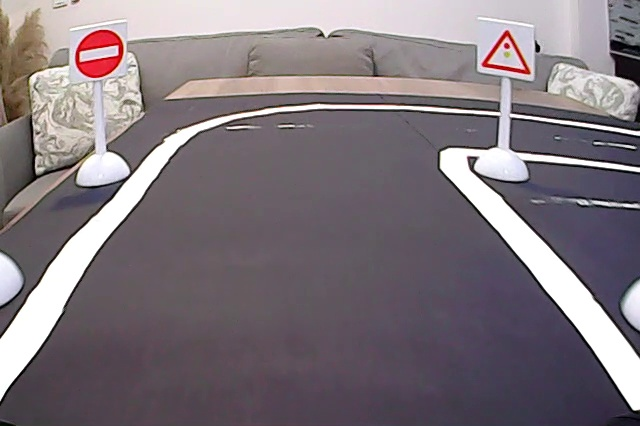do not enter: (72, 27, 127, 83)
red light: (478, 25, 534, 78)
